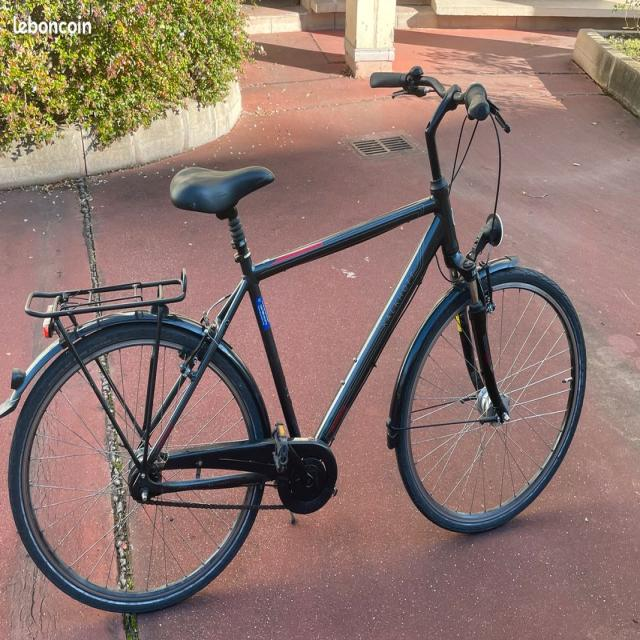Bike: (0, 66, 585, 613)
